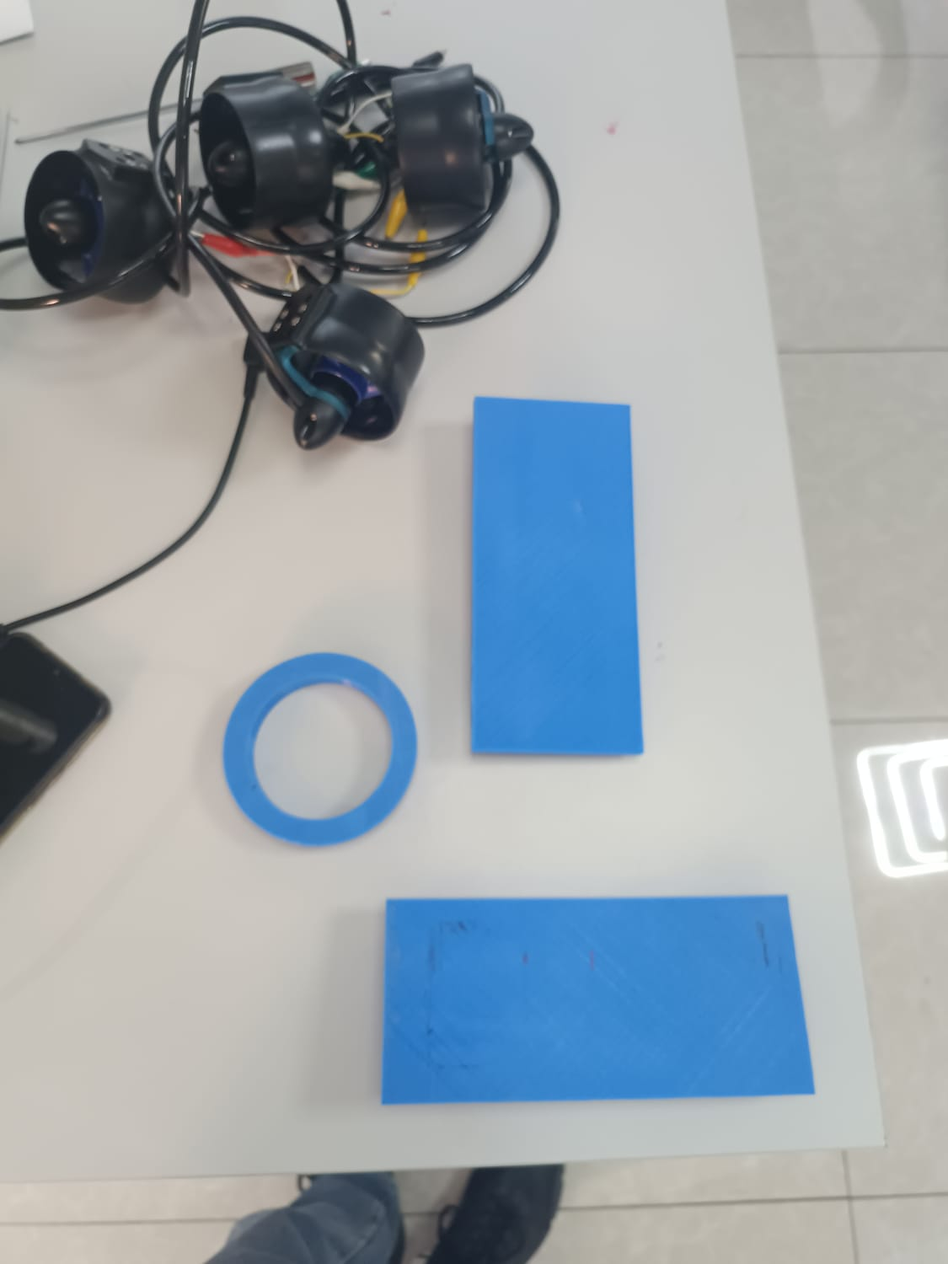Circle: (215, 646, 426, 854)
Rectangular: (370, 887, 824, 1109), (461, 389, 651, 764)
